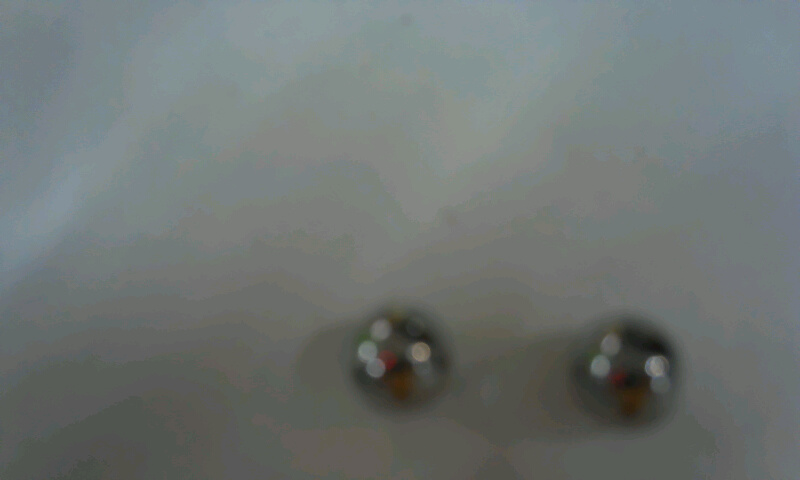steelball: (556, 308, 715, 454), (336, 294, 463, 424)
